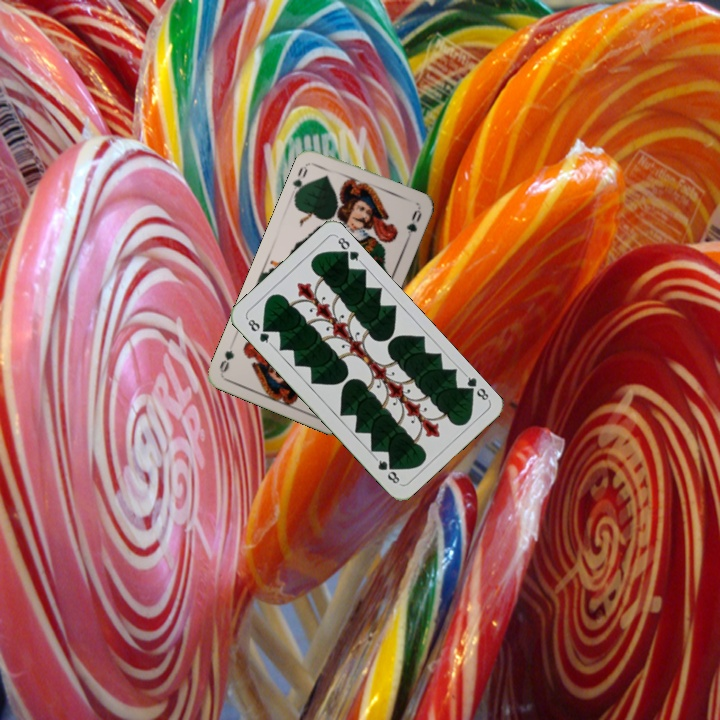G8: (460, 370, 492, 403), (243, 314, 274, 347)
GO: (288, 160, 313, 199)
